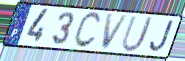3: (50, 11, 76, 46)
4: (25, 7, 49, 46)
C: (71, 11, 102, 50)
J: (148, 20, 175, 54)
U: (120, 15, 155, 54)
V: (100, 13, 131, 51)
